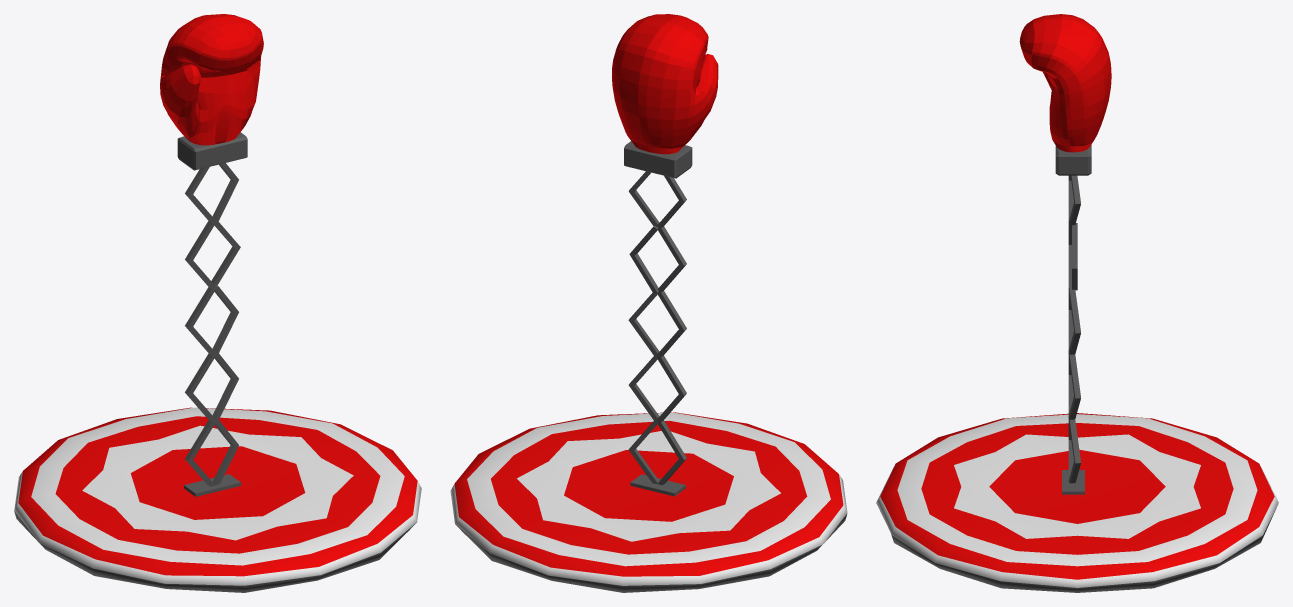
File: PUNCH OBSTACLE 1.fbx
The picture shows the model from 3 angles, left to right: view 1: azimuth 30°, elevation 25°; view 2: azimuth 150°, elevation 25°; view 3: azimuth 270°, elevation 25°; orthographic projection. The views are drawn at different scales.
Parts seen in each view (by area): view 1: BASE, PINCH, pCube14, pCube7, pCube5, pCube6, pCube11, pCube8, pCube10, pCube9, pCube13; view 2: BASE, PINCH, pCube14, pCube7, pCube13, pCube6, pCube5, pCube8, pCube10, pCube9, pCube11; view 3: BASE, PINCH.
Part boxes in pixels (bbox=[...]): BASE: bbox=[14, 407, 421, 592]; PINCH: bbox=[160, 14, 263, 170]; pCube14: bbox=[184, 474, 241, 496]; pCube7: bbox=[185, 353, 216, 421]; pCube5: bbox=[185, 221, 216, 288]; pCube6: bbox=[185, 287, 216, 355]; pCube11: bbox=[212, 285, 238, 354]; pCube8: bbox=[185, 420, 216, 486]; pCube10: bbox=[212, 353, 238, 420]; pCube9: bbox=[212, 419, 238, 485]; pCube13: bbox=[211, 222, 240, 285]; BASE: bbox=[450, 412, 847, 592]; PINCH: bbox=[612, 14, 718, 178]; pCube14: bbox=[630, 474, 685, 496]; pCube7: bbox=[657, 355, 686, 422]; pCube13: bbox=[629, 226, 658, 293]; pCube6: bbox=[657, 291, 686, 356]; pCube5: bbox=[657, 226, 686, 292]; pCube8: bbox=[657, 420, 686, 485]; pCube10: bbox=[628, 355, 659, 421]; pCube9: bbox=[628, 420, 659, 483]; pCube11: bbox=[628, 292, 659, 356]; BASE: bbox=[876, 413, 1278, 592]; PINCH: bbox=[1019, 14, 1111, 175].
Size of the model in its own units: 117 by 157 by 117.
